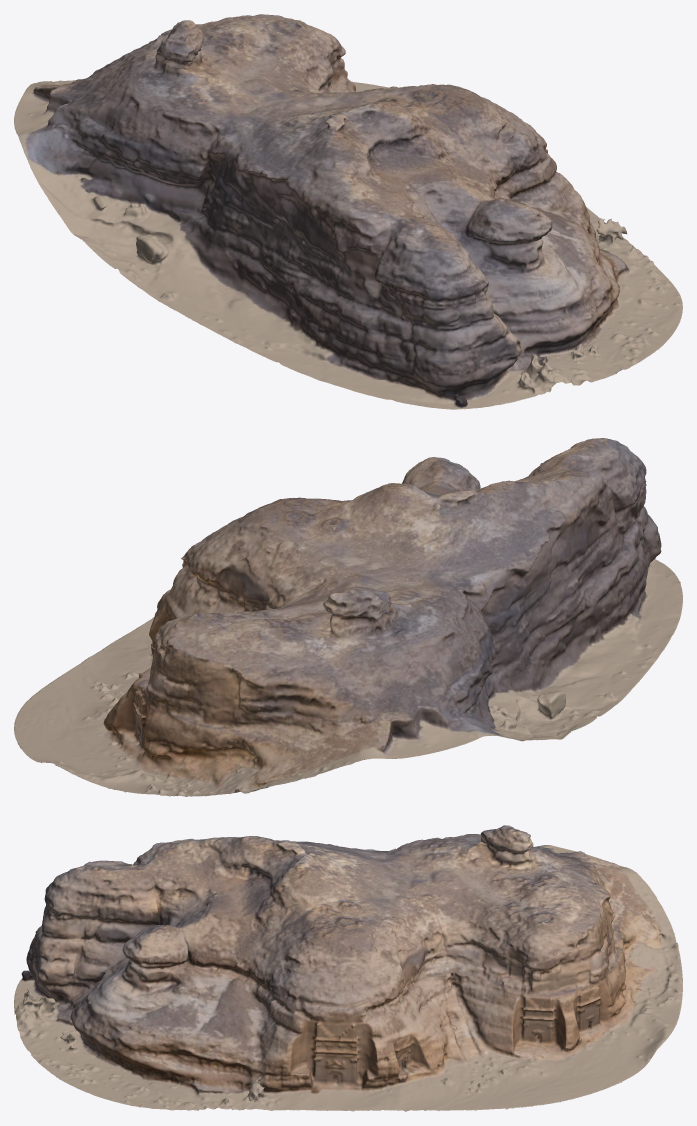
3 views of the same model, one above another, from view 1: azimuth 30°, elevation 25°; view 2: azimuth 150°, elevation 25°; view 3: azimuth 270°, elevation 25° (orthographic). The views are drawn at different scales.
Parts seen in each view (by area): view 1: SAU_001_M5_Khuraimat_LP; view 2: SAU_001_M5_Khuraimat_LP; view 3: SAU_001_M5_Khuraimat_LP.
Part boxes in pixels (x1,y1,x2,y2): SAU_001_M5_Khuraimat_LP: (14,14,682,409); SAU_001_M5_Khuraimat_LP: (14,438,682,796); SAU_001_M5_Khuraimat_LP: (14,825,682,1111).
Bounding box in the file's own units: 103 × 38.79 × 148.
1 material, 1 textured.
